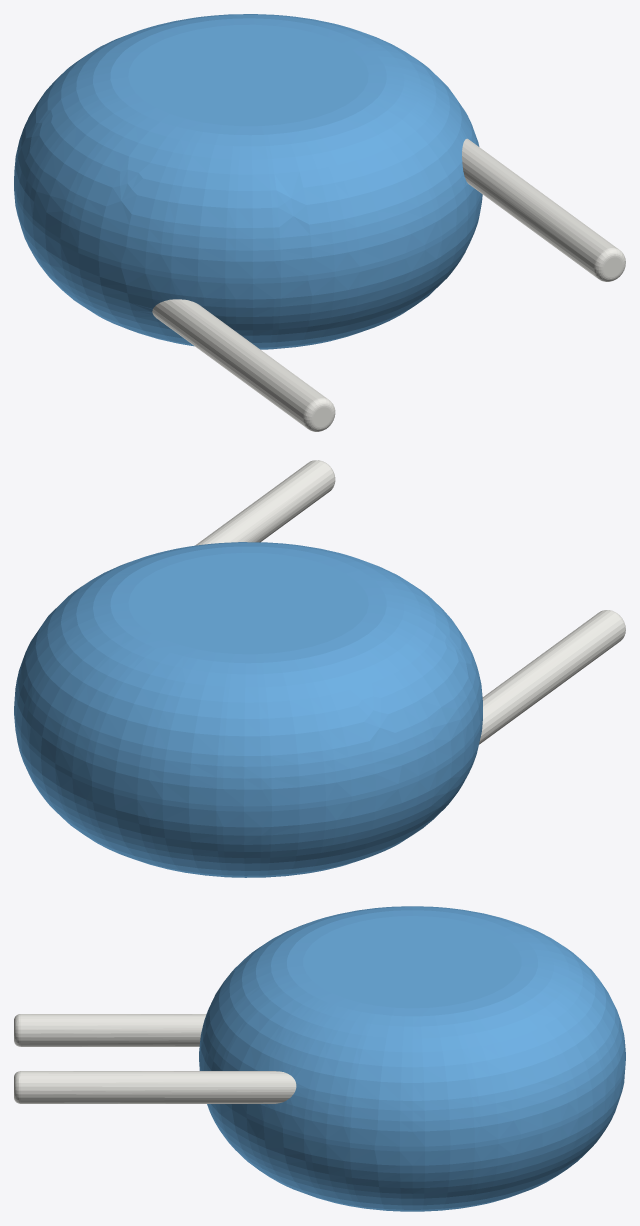
The model's file is RV_Disc_D7mm_W3.5mm_P5mm.glb.
The picture shows the model from 3 angles, top to bottom: view 1: azimuth 30°, elevation 25°; view 2: azimuth 150°, elevation 25°; view 3: azimuth 270°, elevation 25°; orthographic projection. The views are drawn at different scales.
Visible parts, largest first — view 1: Shape_IndexedFaceSet.001, Shape_IndexedFaceSet.002, Shape_IndexedFaceSet.003, Shape_IndexedFaceSet.006, Shape_IndexedFaceSet.004, Shape_IndexedFaceSet, Shape_IndexedFaceSet.008, Shape_IndexedFaceSet.007; view 2: Shape_IndexedFaceSet.001, Shape_IndexedFaceSet.002, Shape_IndexedFaceSet.003, Shape_IndexedFaceSet.006, Shape_IndexedFaceSet.004, Shape_IndexedFaceSet; view 3: Shape_IndexedFaceSet.001, Shape_IndexedFaceSet.002, Shape_IndexedFaceSet.003, Shape_IndexedFaceSet.004, Shape_IndexedFaceSet.006, Shape_IndexedFaceSet.
Boxes of the visible parts, x1,y1,x2,y2 form: Shape_IndexedFaceSet.001: (14, 14, 480, 278); Shape_IndexedFaceSet.002: (14, 190, 482, 349); Shape_IndexedFaceSet.003: (128, 24, 368, 126); Shape_IndexedFaceSet.006: (152, 299, 327, 427); Shape_IndexedFaceSet.004: (462, 138, 618, 277); Shape_IndexedFaceSet: (14, 185, 481, 283); Shape_IndexedFaceSet.008: (303, 398, 335, 431); Shape_IndexedFaceSet.007: (593, 248, 625, 281); Shape_IndexedFaceSet.001: (14, 542, 482, 806); Shape_IndexedFaceSet.002: (14, 715, 482, 877); Shape_IndexedFaceSet.003: (128, 552, 368, 654); Shape_IndexedFaceSet.006: (479, 610, 624, 744); Shape_IndexedFaceSet.004: (195, 460, 334, 545); Shape_IndexedFaceSet: (14, 709, 482, 811); Shape_IndexedFaceSet.001: (199, 906, 625, 1146); Shape_IndexedFaceSet.002: (199, 1070, 624, 1211); Shape_IndexedFaceSet.003: (303, 916, 521, 1008); Shape_IndexedFaceSet.004: (20, 1071, 296, 1103); Shape_IndexedFaceSet.006: (20, 1014, 206, 1046); Shape_IndexedFaceSet: (199, 1056, 625, 1151).
Bounding box in the file's own units: 2.75 × 1.38 × 3.95.
